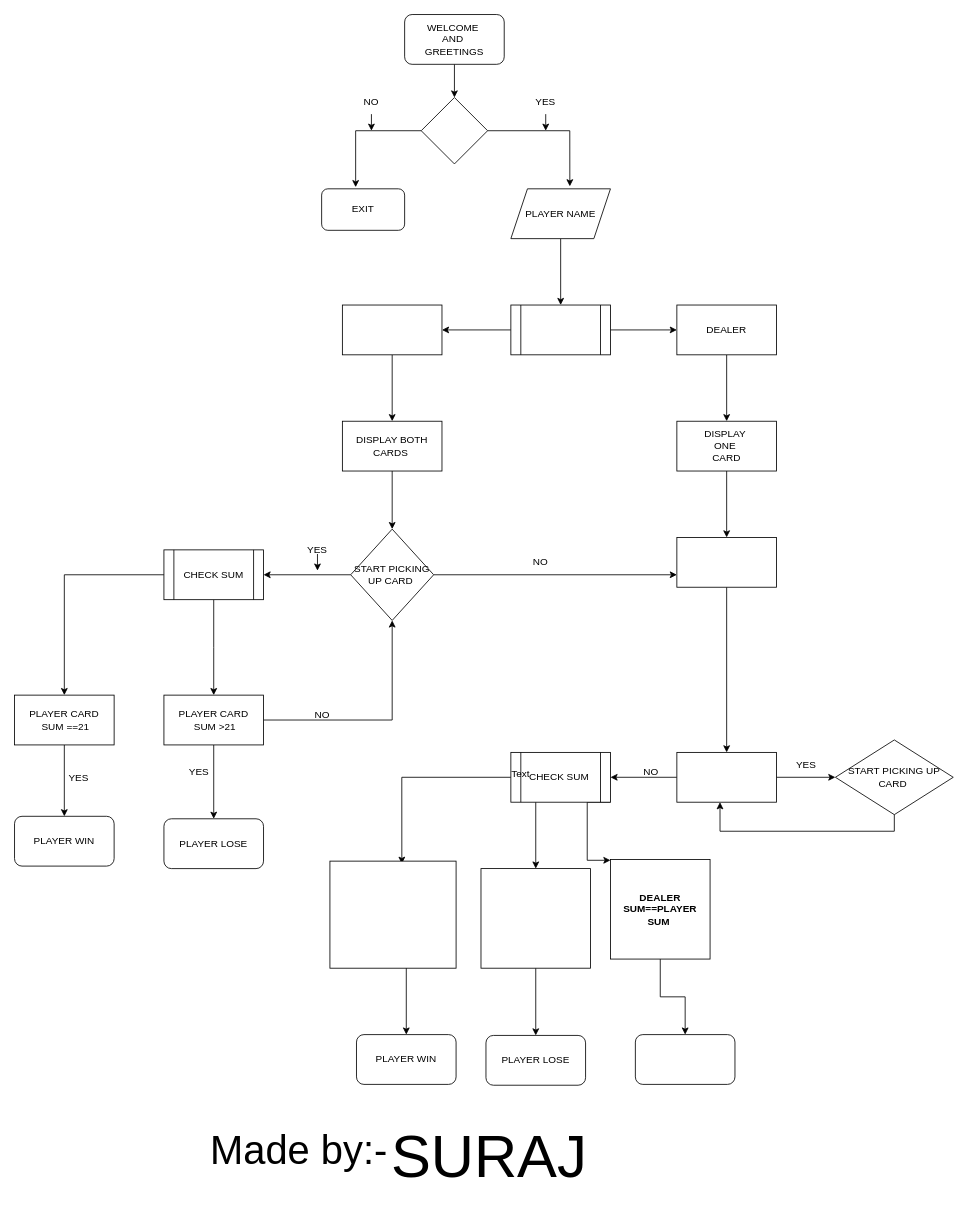
Some shapes in this 968 by 1207 pixel diagram are drawn without their labels. The shapes that lost their labels are listed below. From the top down, each one's box as (x1, y1, x2, y2) in pixels, then its label:
(420, 97, 488, 164): START
(342, 304, 442, 355): PLAYER
(510, 304, 610, 355): SHUFFLE 2 CARDS TO EACH
(676, 537, 776, 587): DISPLAY SECOND CARD
(676, 752, 776, 802): IS SUM OF DEALER CARDS <17
(329, 860, 456, 968): DEALER CARD SUM > 21 OR 21 > PLAYER CARD SUM >DEALER CARD SUM AND
(480, 868, 591, 968): 21 > DEALER CARD SUM >PLAYER CARD SUM OR DEALER ==21
(635, 1034, 735, 1084): DRAW
